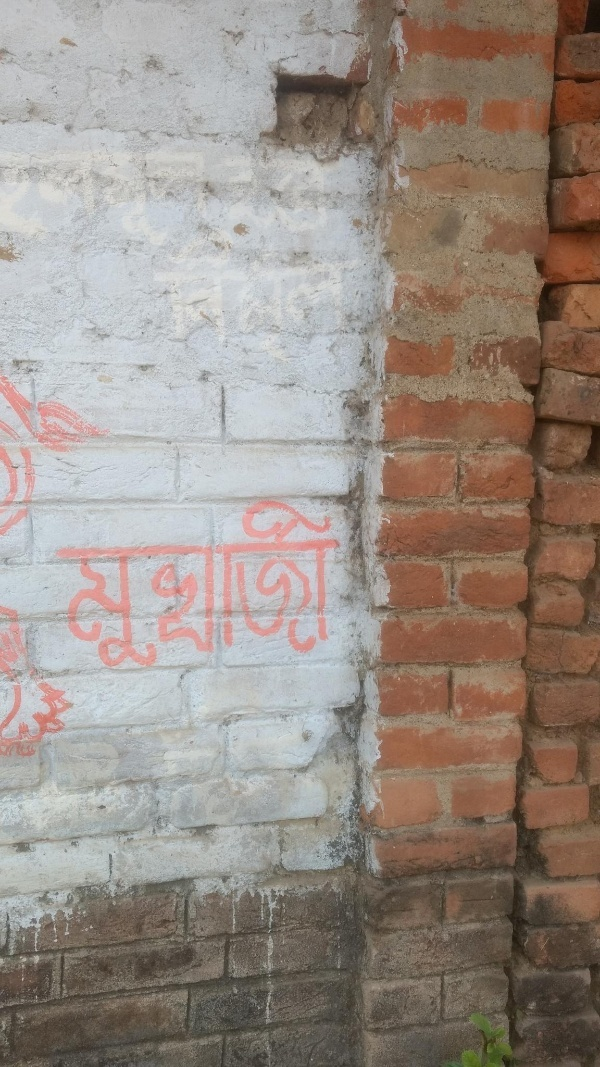text: (65, 499, 80, 688), (81, 499, 96, 688), (97, 499, 112, 688), (113, 499, 128, 688), (129, 499, 144, 688), (145, 499, 160, 688), (161, 499, 176, 688), (177, 499, 192, 688), (193, 499, 208, 688), (209, 499, 224, 688), (225, 499, 240, 688), (241, 499, 256, 688), (257, 499, 272, 688), (273, 499, 288, 688), (289, 499, 304, 688), (305, 499, 320, 688), (321, 499, 336, 688), (54, 499, 64, 688), (161, 242, 176, 365), (177, 242, 192, 365), (193, 242, 208, 365), (209, 242, 224, 365), (225, 242, 240, 365), (241, 242, 256, 365), (257, 242, 272, 365), (273, 242, 288, 365), (289, 242, 304, 365), (305, 242, 320, 365), (321, 242, 336, 365), (337, 242, 352, 365), (353, 242, 364, 365), (1, 94, 16, 146), (17, 94, 32, 146), (33, 94, 48, 146), (49, 94, 64, 146), (65, 94, 80, 146), (81, 94, 96, 146), (97, 94, 112, 146), (113, 94, 128, 146), (129, 94, 144, 146), (145, 94, 160, 146), (161, 94, 176, 146), (177, 94, 192, 146), (193, 94, 208, 146), (209, 94, 224, 146), (225, 94, 240, 146), (241, 94, 256, 146), (257, 94, 272, 146), (273, 94, 288, 146), (289, 94, 304, 146), (305, 94, 320, 146), (321, 94, 336, 146), (155, 242, 160, 365), (337, 499, 340, 688), (337, 94, 342, 146)
